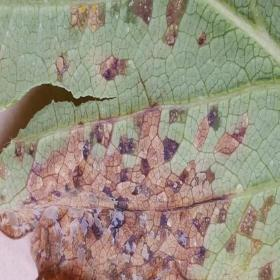Angular Leafspot: (0, 0, 278, 279)
